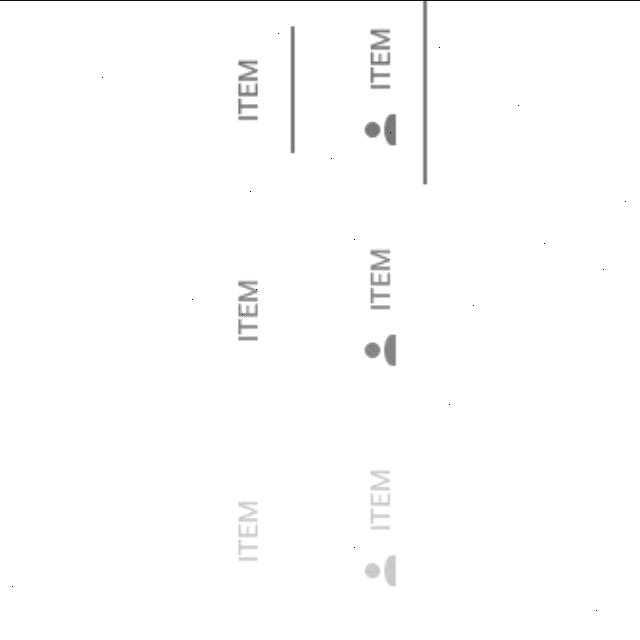QLabel: (235, 276, 261, 344), (235, 496, 261, 564), (368, 466, 394, 532), (368, 246, 394, 312), (236, 56, 260, 124), (370, 24, 394, 92)
VIcon: (364, 552, 398, 586), (363, 332, 397, 366), (364, 112, 398, 146)
VTabs: (342, 0, 433, 622), (221, 0, 301, 620)
